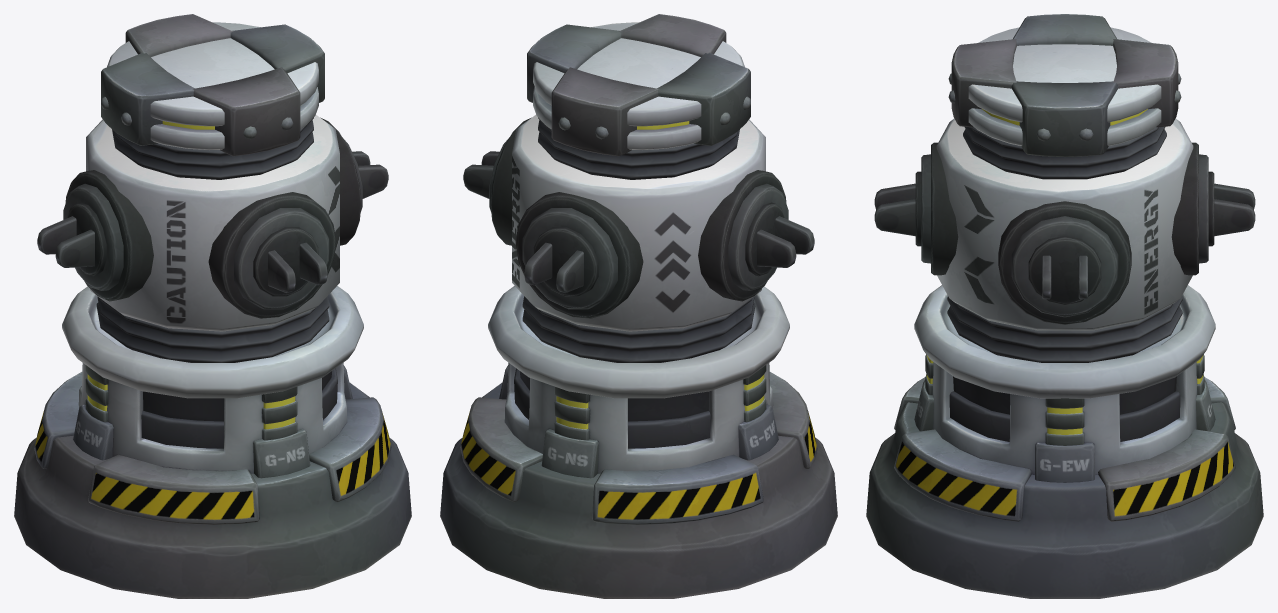
Rendered from SM_TowerDefense_SciFi_Lv5.fbx.
3 views of the same model, side by side, from view 1: azimuth 30°, elevation 25°; view 2: azimuth 150°, elevation 25°; view 3: azimuth 270°, elevation 25° (orthographic).
Visible parts, largest first — view 1: SM_TowerDefense_SciFi_Lv5; view 2: SM_TowerDefense_SciFi_Lv5; view 3: SM_TowerDefense_SciFi_Lv5.
Part boxes in pixels (x1=…): SM_TowerDefense_SciFi_Lv5: x1=14, y1=14, x2=411, y2=598; SM_TowerDefense_SciFi_Lv5: x1=440, y1=14, x2=837, y2=598; SM_TowerDefense_SciFi_Lv5: x1=866, y1=14, x2=1263, y2=598.
Size of the model in its own units: 1097 by 1409 by 1114.
